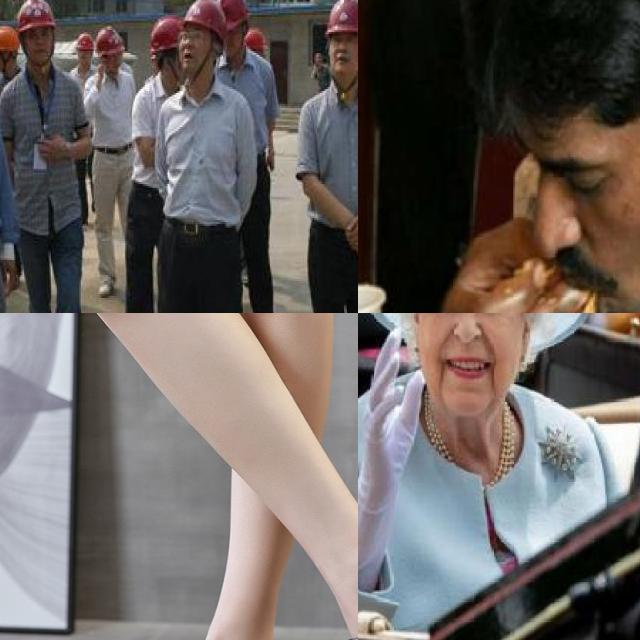No_Glasses: (535, 140, 640, 213)
Sandals: (94, 520, 358, 640)
face_nomask: (535, 94, 640, 305), (425, 313, 522, 430), (20, 24, 57, 64), (175, 28, 209, 69), (328, 30, 358, 70)
glasses: (173, 26, 207, 44)
hand_glove: (358, 325, 425, 551)
hand_noglove: (427, 220, 576, 313), (36, 131, 72, 163), (0, 254, 24, 302), (345, 206, 358, 248)
head_helmet: (180, 0, 231, 37), (147, 14, 186, 52), (13, 0, 59, 32), (323, 0, 358, 39), (93, 24, 131, 57)
head_nohelmet: (444, 0, 640, 142)
person: (358, 313, 628, 640), (358, 0, 640, 313), (153, 0, 256, 313), (0, 0, 100, 313), (299, 0, 358, 313)
